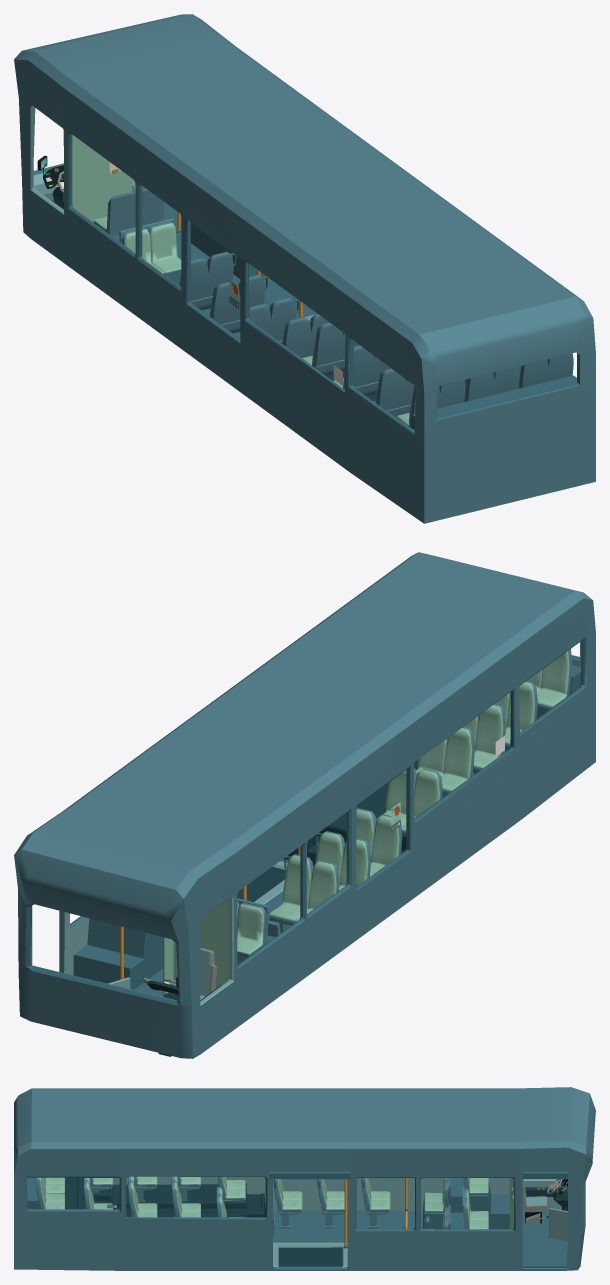
Rendered from bus_body_mdl.fbx.
The picture shows the model from 3 angles, top to bottom: view 1: azimuth 30°, elevation 25°; view 2: azimuth 150°, elevation 25°; view 3: azimuth 270°, elevation 25°; orthographic projection. The views are drawn at different scales.
Parts seen in each view (by area): view 1: bus_body_mdl; view 2: bus_body_mdl; view 3: bus_body_mdl.
Part boxes in pixels (left/top/right/bottom): bus_body_mdl: left=14, top=14, right=595, bottom=523; bus_body_mdl: left=14, top=552, right=595, bottom=1058; bus_body_mdl: left=14, top=1087, right=595, bottom=1270.
Size of the model in its own units: 2.66 by 2.78 by 11.02.
